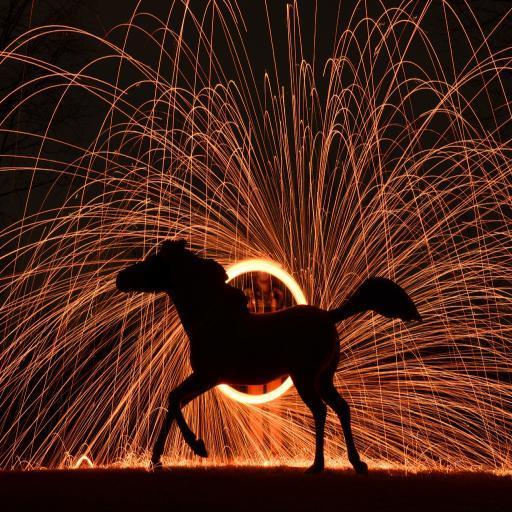horse: (114, 237, 422, 473)
